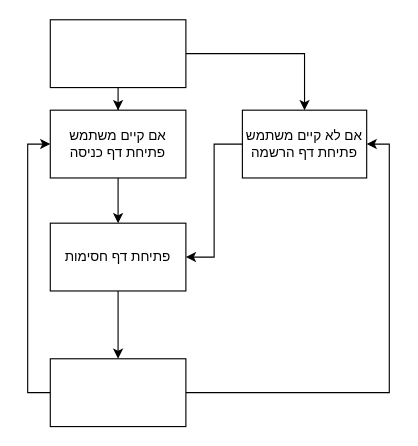
The diagram is 418 pixels wide and 446 high, and some of its shapes have lost their labels. The shapes that lost their labels are listed below. From the top down, each one's box as (x1, y1, x2, y2) in pixels, then its label:
(49, 19, 186, 88): פתיחת האפליקציה
(49, 358, 186, 427): דף מחיקת משתמש
